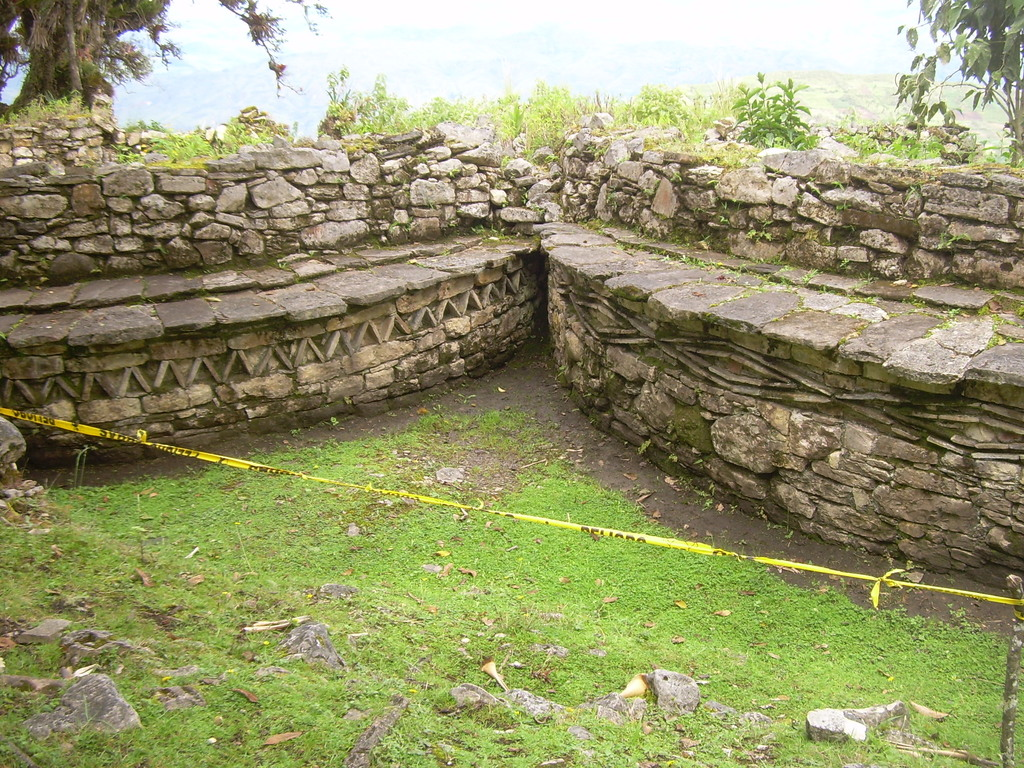Tree: (1, 0, 327, 98), (885, 0, 1023, 155)
